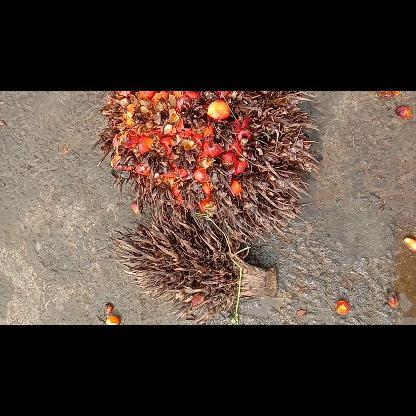Janjang kosong: (110, 206, 276, 324)
Terlalu masak: (91, 91, 319, 242)
